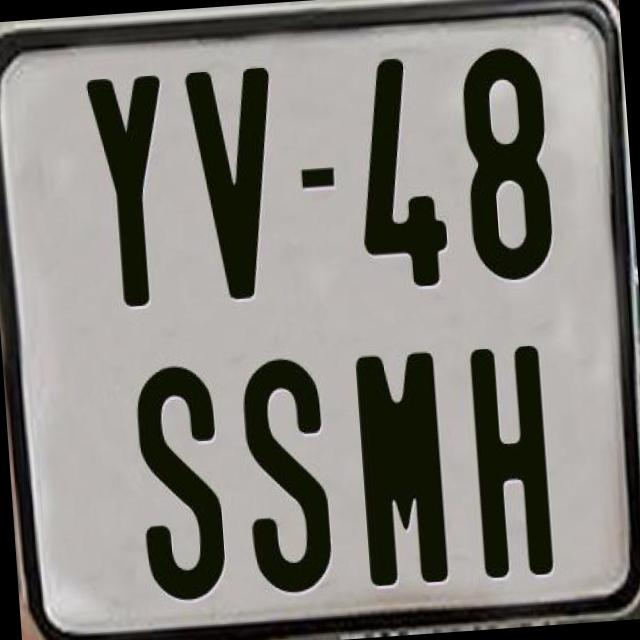4: (347, 51, 447, 290)
8: (456, 42, 555, 278)
H: (465, 345, 552, 578)
M: (350, 346, 450, 586)
S: (236, 356, 338, 602), (130, 358, 227, 604)
V: (183, 65, 289, 300)
Y: (84, 75, 178, 312)
